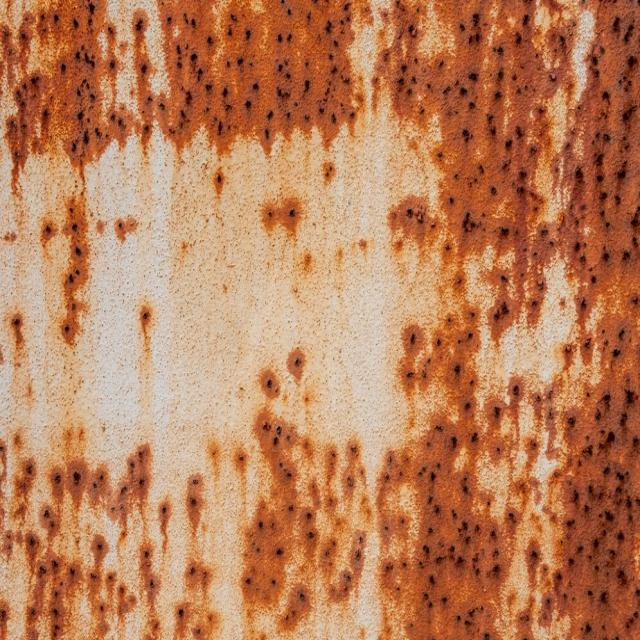Pitting Corrosion: (376, 2, 639, 637), (0, 428, 172, 639), (240, 365, 373, 637), (0, 0, 163, 191), (154, 0, 356, 149), (170, 474, 222, 639), (59, 193, 90, 347), (262, 198, 301, 233), (287, 347, 305, 383), (114, 217, 138, 239), (40, 218, 57, 246)
